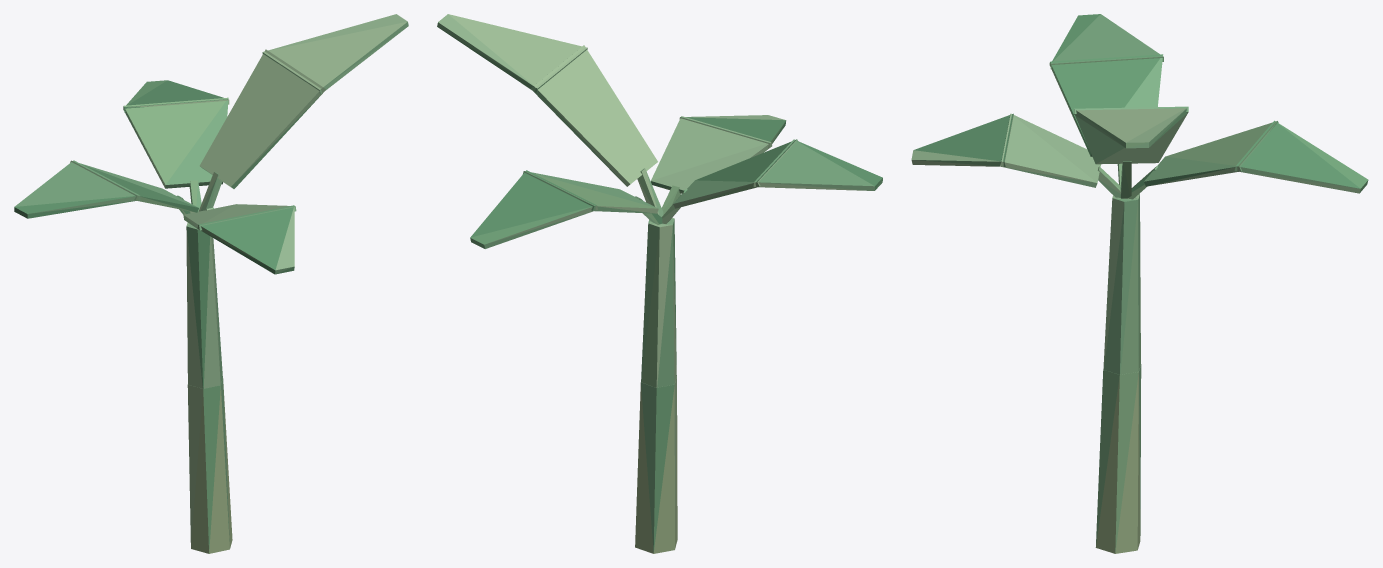
The model's file is banana-plant-01.glb.
3 renders of one model, left to right at view 1: azimuth 30°, elevation 25°; view 2: azimuth 150°, elevation 25°; view 3: azimuth 270°, elevation 25°, orthographic. The views are drawn at different scales.
Visible parts, largest first — view 1: banana_plant_01; view 2: banana_plant_01; view 3: banana_plant_01.
Part boxes in pixels (x1=…): banana_plant_01: x1=14, y1=14, x2=408, y2=553; banana_plant_01: x1=437, y1=14, x2=882, y2=553; banana_plant_01: x1=911, y1=14, x2=1368, y2=553.
Bounding box in the file's own units: 1.78 × 1.97 × 1.61.
